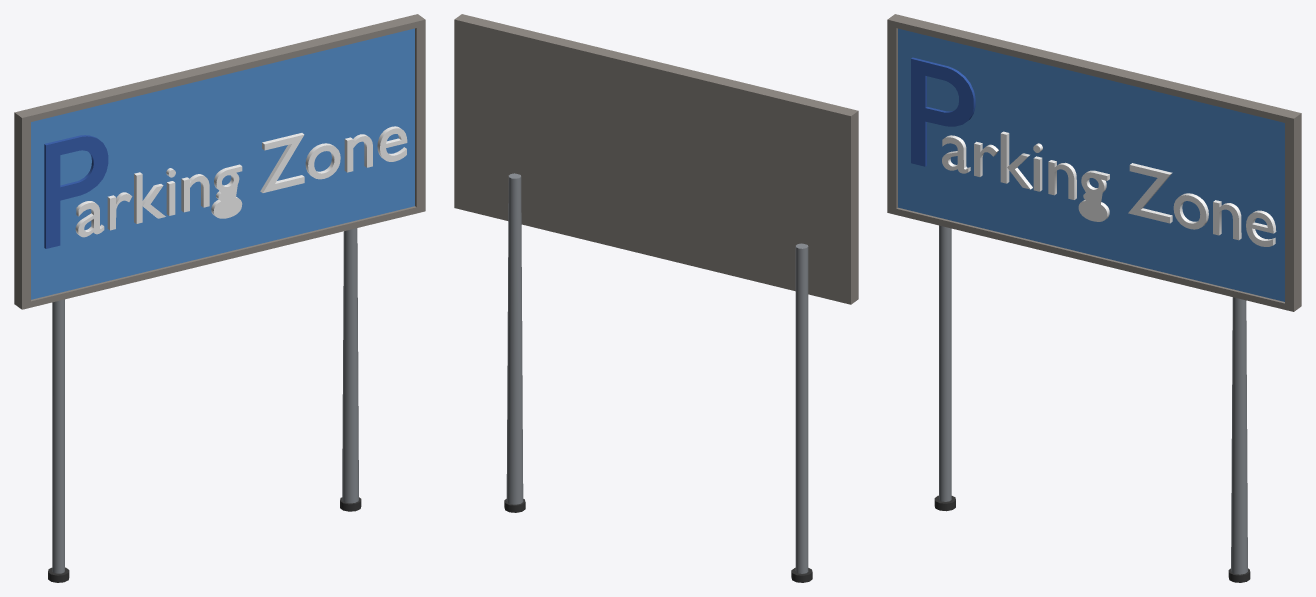
File: Road Sign_7.fbx
3 views of the same model, side by side, from view 1: azimuth 30°, elevation 25°; view 2: azimuth 150°, elevation 25°; view 3: azimuth 330°, elevation 25° (orthographic). The views are drawn at different scales.
Parts seen in each view (by area): view 1: Road Sign_7; view 2: Road Sign_7; view 3: Road Sign_7.
Boxes of the visible parts, x1,y1,x2,y2 form: Road Sign_7: (14,14,425,582); Road Sign_7: (454,14,858,582); Road Sign_7: (887,14,1301,582).
Size of the model in its own units: 240 by 273 by 17.49.
